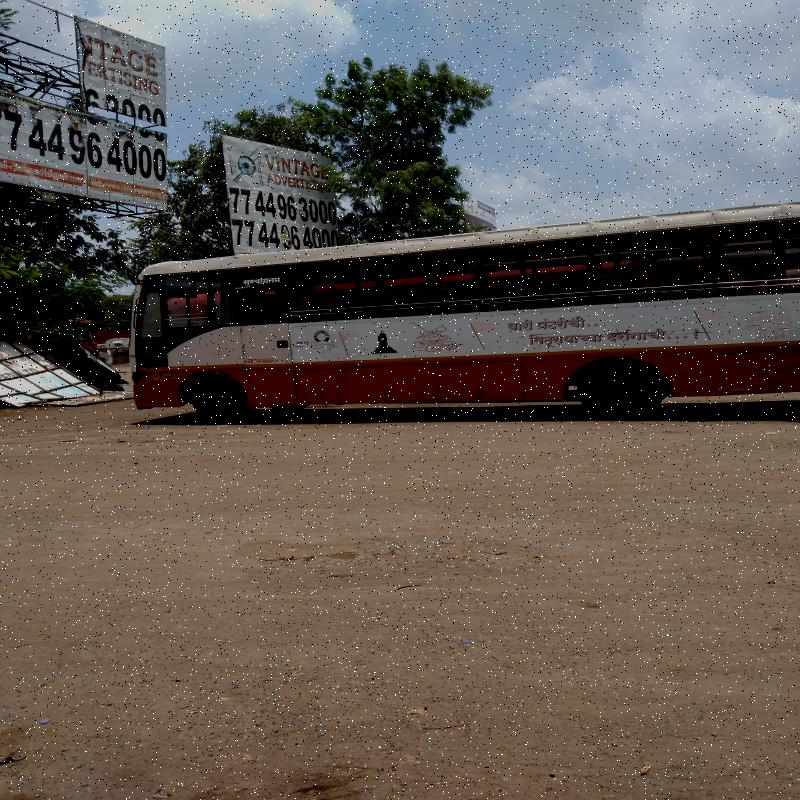bus: (132, 244, 800, 439)
